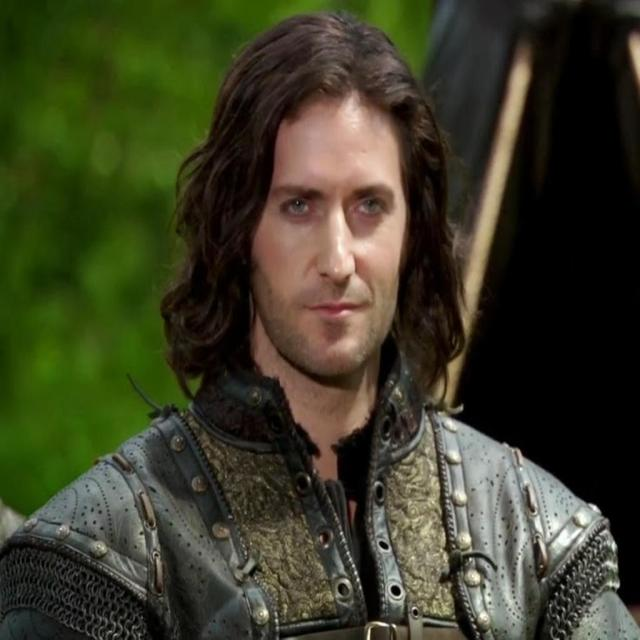Face: (266, 110, 403, 381)
